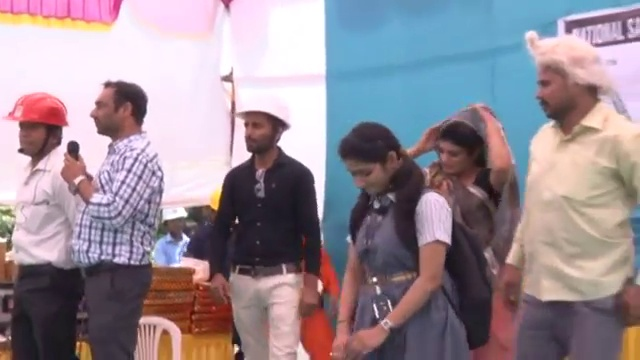helmet: (2, 87, 75, 129), (230, 96, 295, 132), (160, 205, 189, 225)
helmet_off: (528, 37, 616, 123), (337, 120, 411, 209), (422, 117, 496, 190), (82, 81, 152, 147)
helmet_on: (5, 86, 75, 156), (231, 95, 295, 168), (160, 205, 189, 238)
person: (511, 33, 638, 360), (182, 93, 328, 352), (332, 113, 451, 358), (66, 81, 164, 360), (423, 110, 524, 348), (2, 86, 88, 360), (152, 205, 200, 273)
